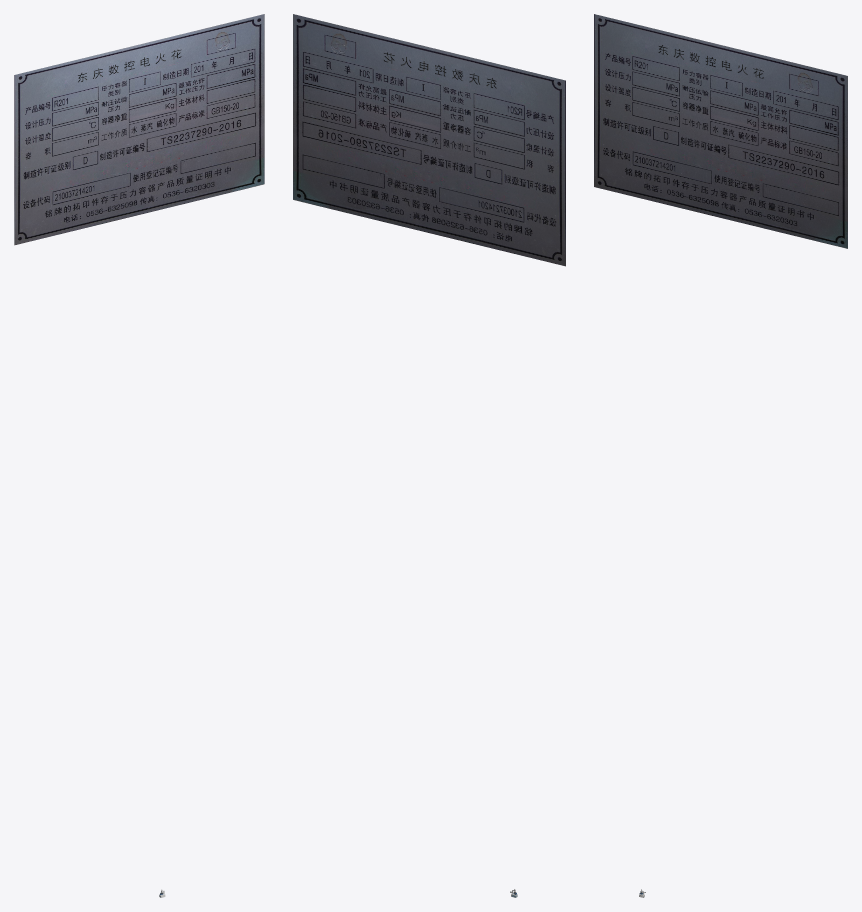
3 renders of one model, left to right at view 1: azimuth 30°, elevation 25°; view 2: azimuth 150°, elevation 25°; view 3: azimuth 330°, elevation 25°, orthographic. The views are drawn at different scales.
Visible parts, largest first — view 1: gy-8788; view 2: gy-8788; view 3: gy-8788.
Boxes of the visible parts, x1=… form: gy-8788: x1=14, y1=14, x2=264, y2=245; gy-8788: x1=293, y1=14, x2=565, y2=266; gy-8788: x1=594, y1=14, x2=847, y2=248.
Bounding box in the file's own units: 327 × 1012 × 116.
Materials: 16 (2 with a texture image).
